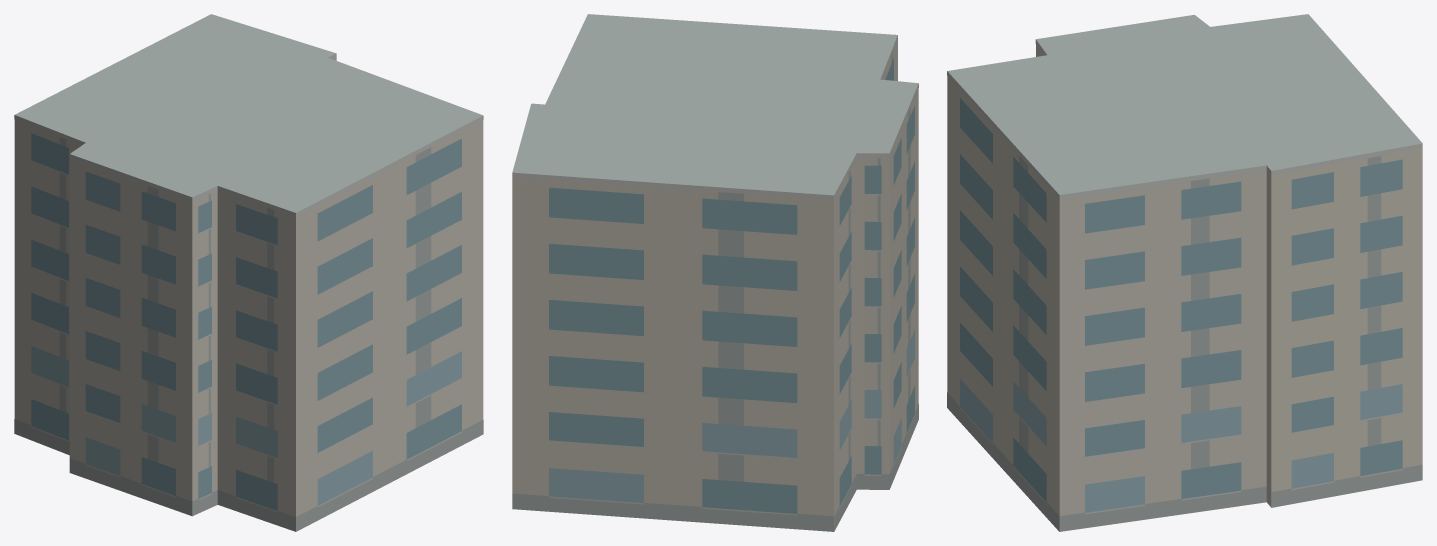
The model's file is survey-upis-32864435.glb.
3 renders of one model, left to right at view 1: azimuth 30°, elevation 25°; view 2: azimuth 150°, elevation 25°; view 3: azimuth 270°, elevation 25°, orthographic. The views are drawn at different scales.
Visible parts, largest first — view 1: survey-upis-32864435.tmp; view 2: survey-upis-32864435.tmp; view 3: survey-upis-32864435.tmp.
Part boxes in pixels (x1,y1,x2,y2): survey-upis-32864435.tmp: (14, 14, 483, 531); survey-upis-32864435.tmp: (512, 14, 918, 531); survey-upis-32864435.tmp: (947, 14, 1422, 531).
Bounding box in the file's own units: 19.72 × 17.1 × 21.89.
